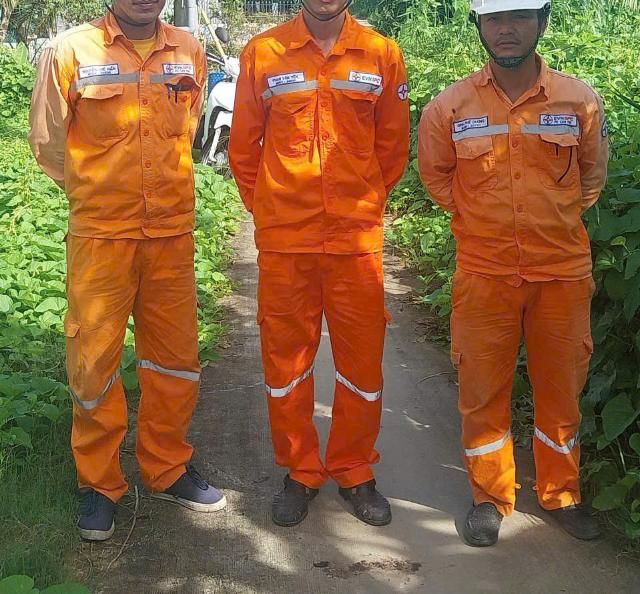shoes: (61, 463, 132, 553), (140, 460, 225, 522), (529, 488, 613, 550), (330, 468, 410, 529), (438, 487, 512, 550), (245, 470, 320, 526)
